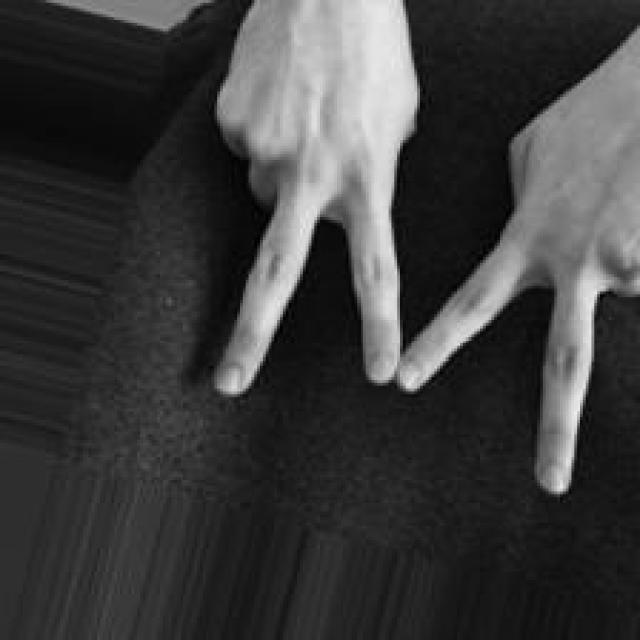M: (205, 0, 640, 497)
